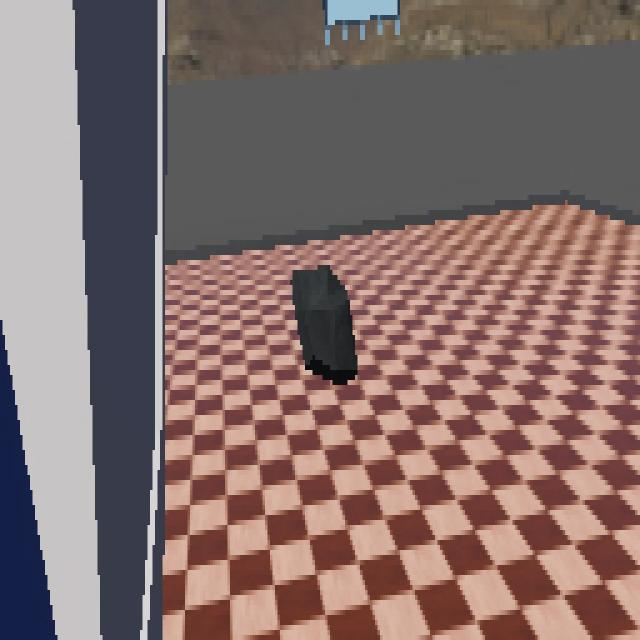rock: (292, 267, 358, 386)
